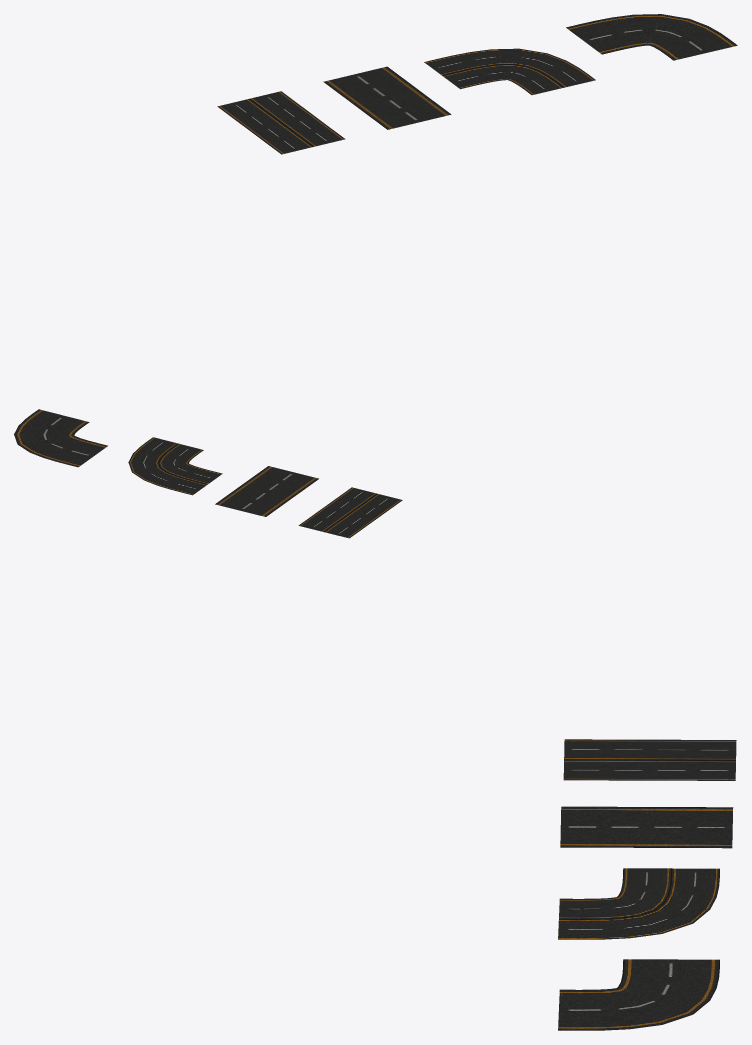
3 renders of one model, top to bottom at view 1: azimuth 30°, elevation 25°; view 2: azimuth 150°, elevation 25°; view 3: azimuth 270°, elevation 25°, orthographic. The views are drawn at different scales.
Visible parts, largest first — view 1: Tube 1_4, Tube 5_5, Tube_0, Tube 3_1; view 2: Tube 1_4, Tube 5_5, Tube_0, Tube 3_1; view 3: Tube 1_4, Tube 5_5, Tube_0, Tube 3_1.
Boxes of the visible parts, x1,y1,x2,y2 form: Tube 1_4: [566, 14, 737, 60]; Tube 5_5: [424, 48, 595, 94]; Tube_0: [217, 91, 345, 154]; Tube 3_1: [323, 66, 451, 129]; Tube 1_4: [14, 409, 107, 467]; Tube 5_5: [128, 437, 222, 495]; Tube_0: [298, 487, 402, 538]; Tube 3_1: [215, 466, 318, 516]; Tube 1_4: [558, 959, 719, 1030]; Tube 5_5: [558, 868, 719, 939]; Tube_0: [563, 739, 736, 780]; Tube 3_1: [560, 806, 733, 848].
Bounding box in the file's own units: 4.14 × 5.83e-07 × 2.99.
Materials: 6 (6 with a texture image).
